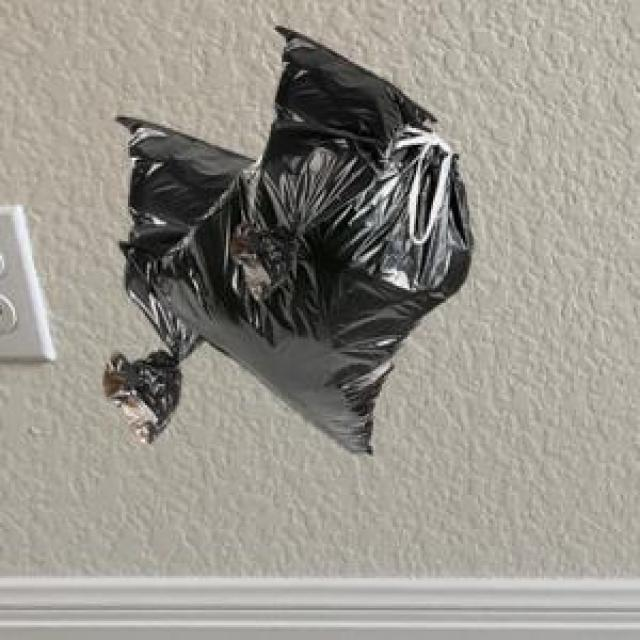waste: (105, 26, 472, 453)
